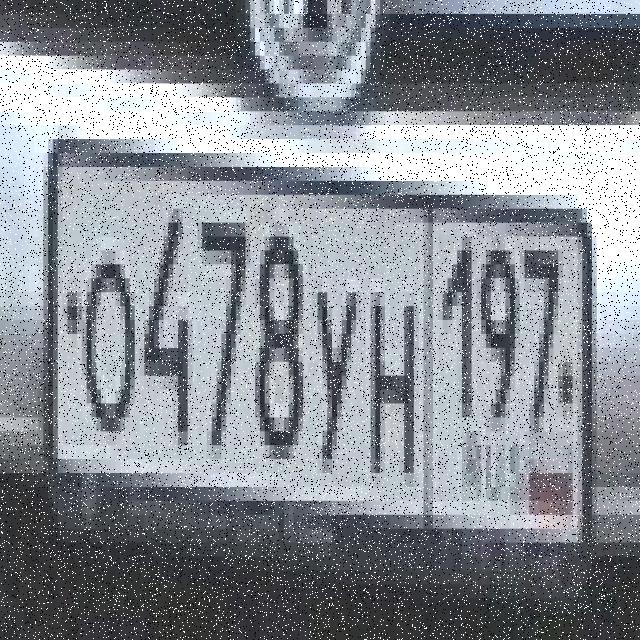licenseplate: (33, 90, 604, 608)
